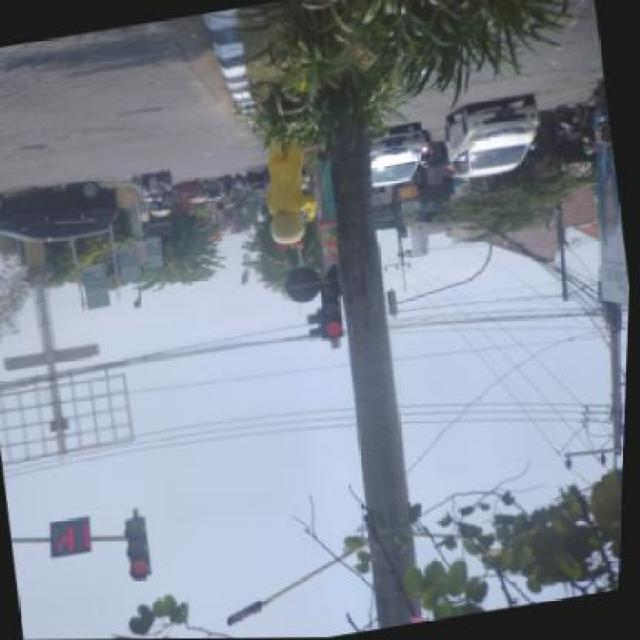red_light: (122, 513, 161, 582), (317, 278, 348, 340)
